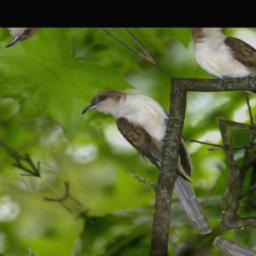Cuckoo: (65, 71, 256, 237)
